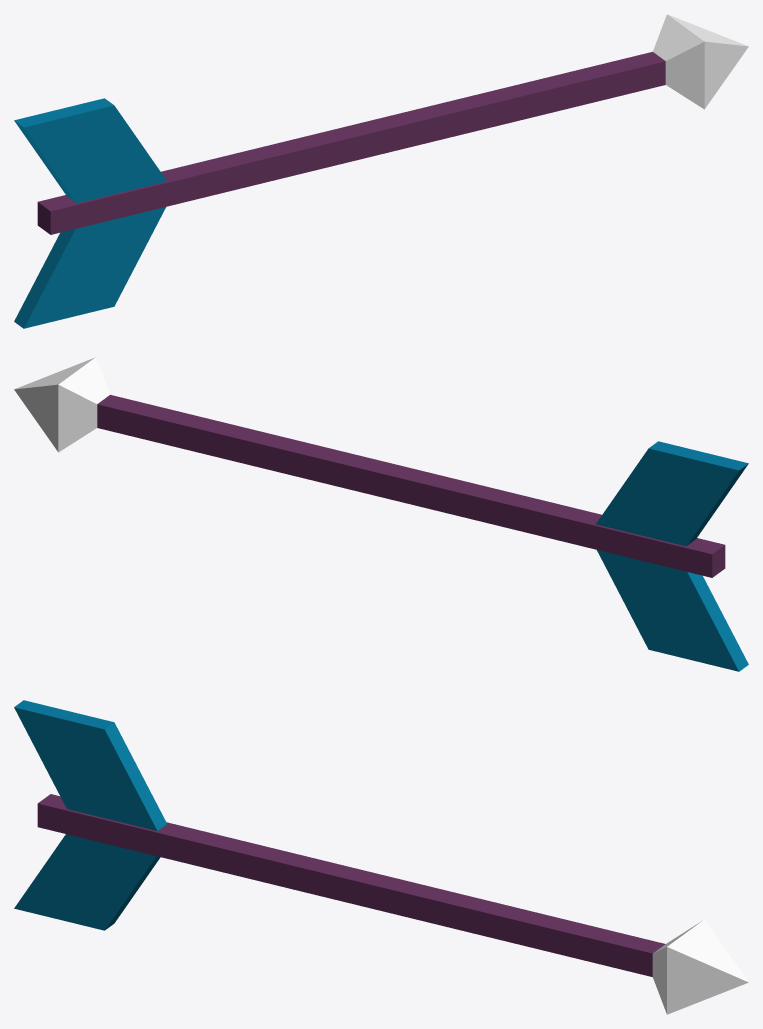
The model's file is BlueArrow.fbx.
3 renders of one model, top to bottom at view 1: azimuth 30°, elevation 25°; view 2: azimuth 150°, elevation 25°; view 3: azimuth 330°, elevation 25°, orthographic.
Parts seen in each view (by area): view 1: Cube.005; view 2: Cube.005; view 3: Cube.005.
Part boxes in pixels (x1,y1,x2,y2): Cube.005: (14, 14, 748, 328); Cube.005: (14, 357, 748, 671); Cube.005: (14, 700, 748, 1014).
Bounding box in the file's own units: 64.6 × 17.02 × 5.75.
